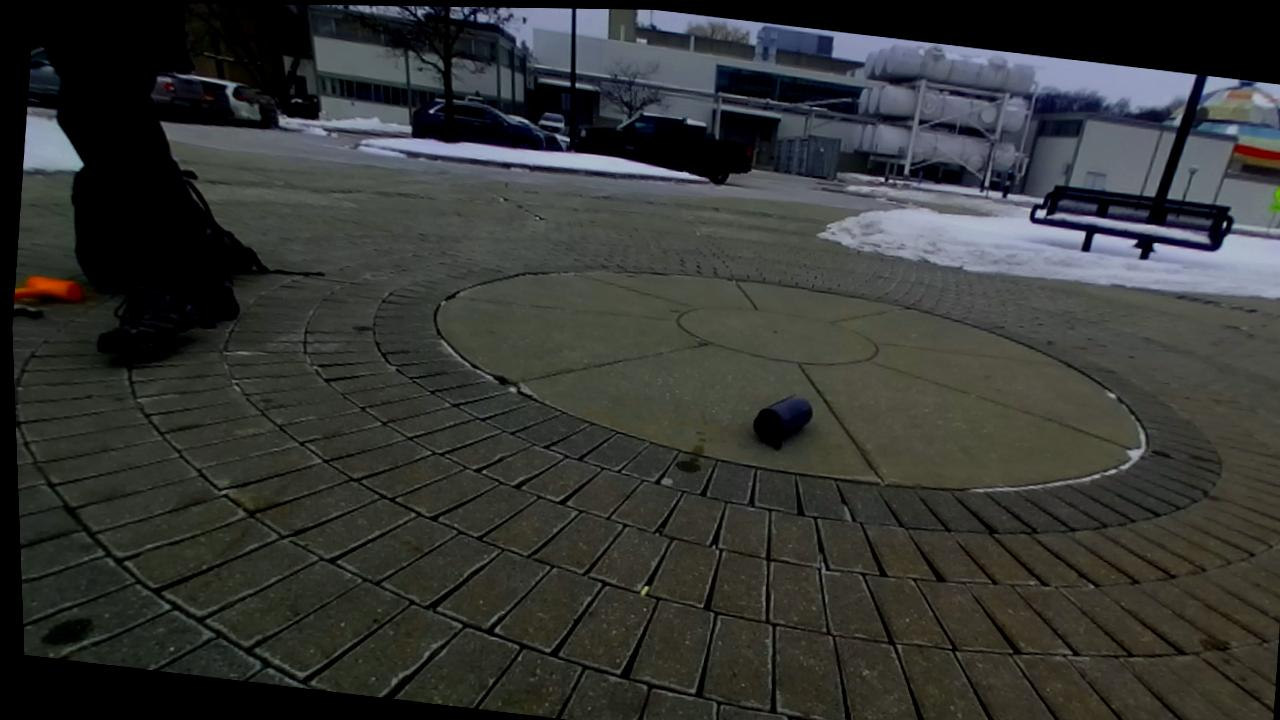bottle: (755, 395, 813, 448)
mallet: (14, 276, 82, 300)
